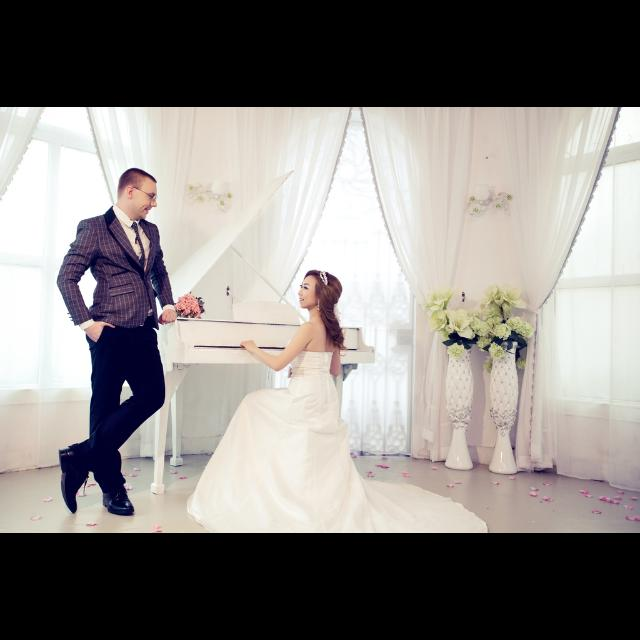Flower: (422, 278, 534, 344), (176, 294, 204, 318), (488, 343, 508, 361), (448, 344, 467, 362)
